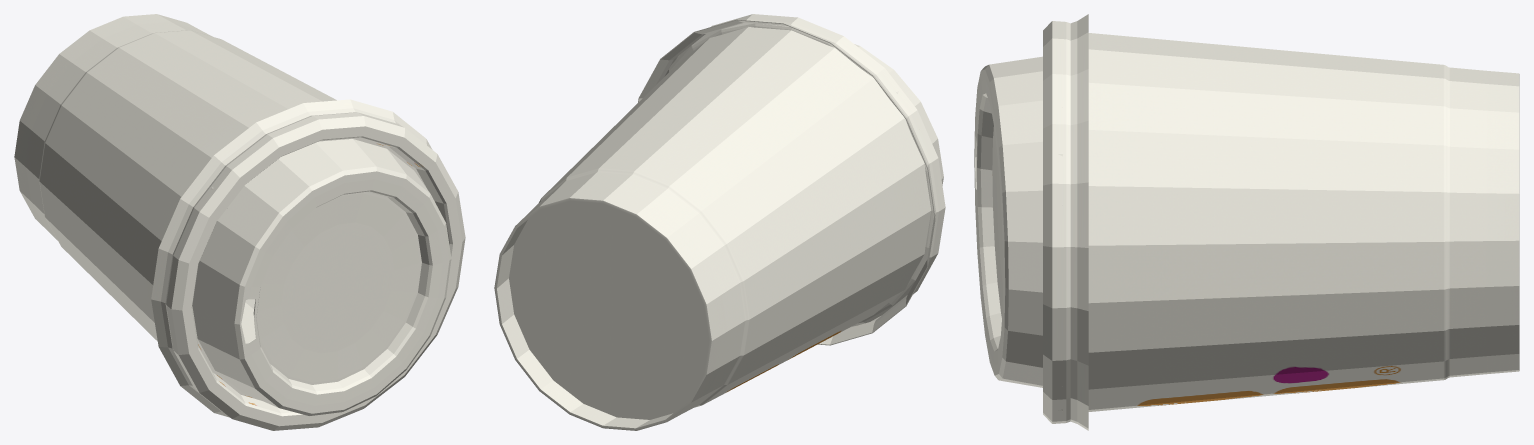
Rendered from dunkin.glb.
3 renders of one model, left to right at view 1: azimuth 30°, elevation 25°; view 2: azimuth 150°, elevation 25°; view 3: azimuth 270°, elevation 25°, orthographic. The views are drawn at different scales.
Visible parts, largest first — view 1: dunkin; view 2: dunkin; view 3: dunkin.
Part boxes in pixels (left/top/right/bottom): dunkin: left=14, top=14, right=465, bottom=430; dunkin: left=494, top=14, right=945, bottom=430; dunkin: left=974, top=14, right=1519, bottom=430.
Size of the model in its own units: 9.81 by 9.81 by 12.73.
1 material, 1 textured.
